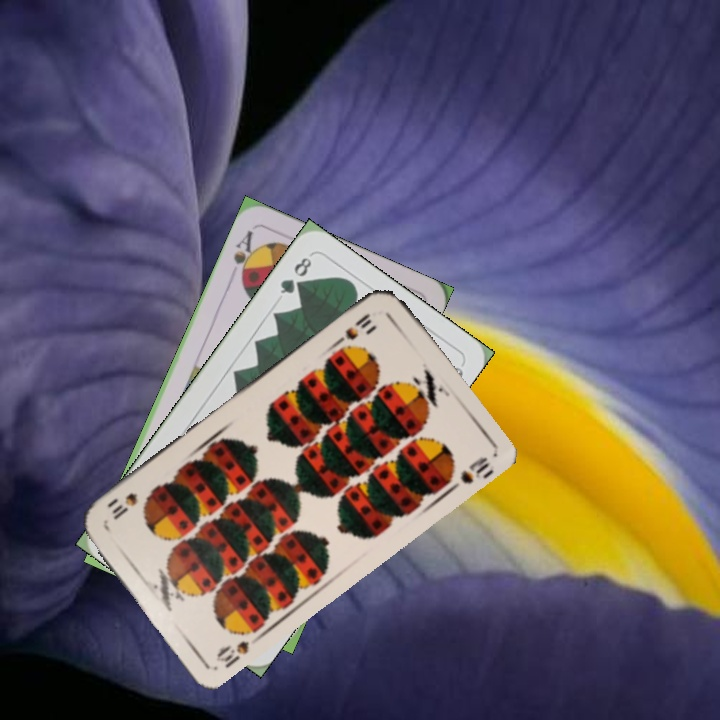G8: (276, 253, 315, 297)
S10: (211, 630, 265, 671), (331, 309, 374, 347)
SA: (229, 226, 260, 285)
